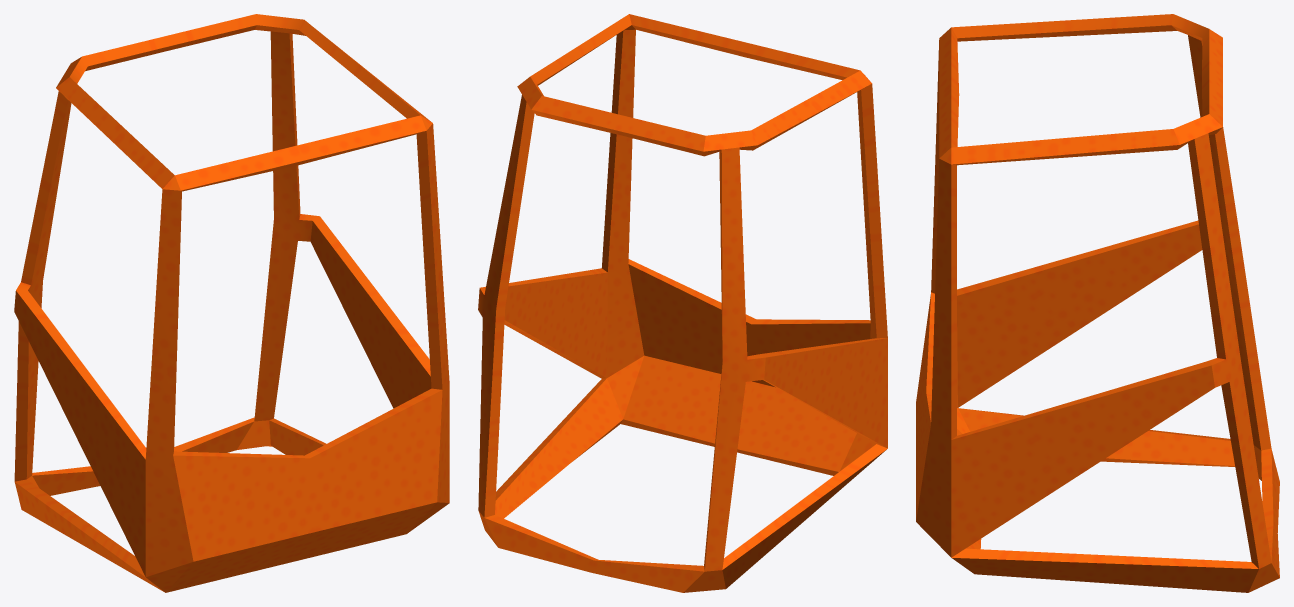
The model's file is Speaker_cage_4thCol_LOD0.fbx.
3 renders of one model, left to right at view 1: azimuth 30°, elevation 25°; view 2: azimuth 150°, elevation 25°; view 3: azimuth 270°, elevation 25°, orthographic. The views are drawn at different scales.
Visible parts, largest first — view 1: Speaker_cage_4thCol_LOD0; view 2: Speaker_cage_4thCol_LOD0; view 3: Speaker_cage_4thCol_LOD0.
Part boxes in pixels (bbox=[...]): Speaker_cage_4thCol_LOD0: bbox=[14, 14, 449, 592]; Speaker_cage_4thCol_LOD0: bbox=[478, 14, 887, 592]; Speaker_cage_4thCol_LOD0: bbox=[916, 14, 1279, 592].
Size of the model in its own units: 94.56 by 138 by 97.75.
